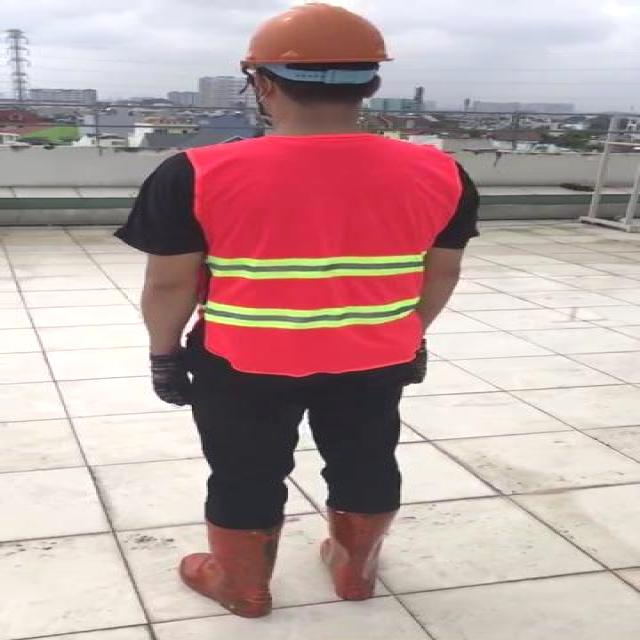boots: (178, 519, 286, 618), (318, 509, 404, 601)
hand_glove: (148, 350, 188, 410)
head_helmet: (115, 0, 486, 640), (233, 3, 400, 67)
vest: (190, 134, 457, 373)
